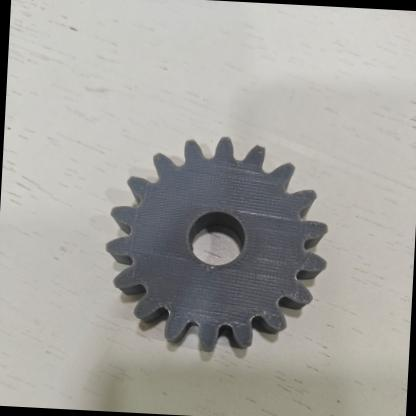gear: (77, 120, 342, 378)
